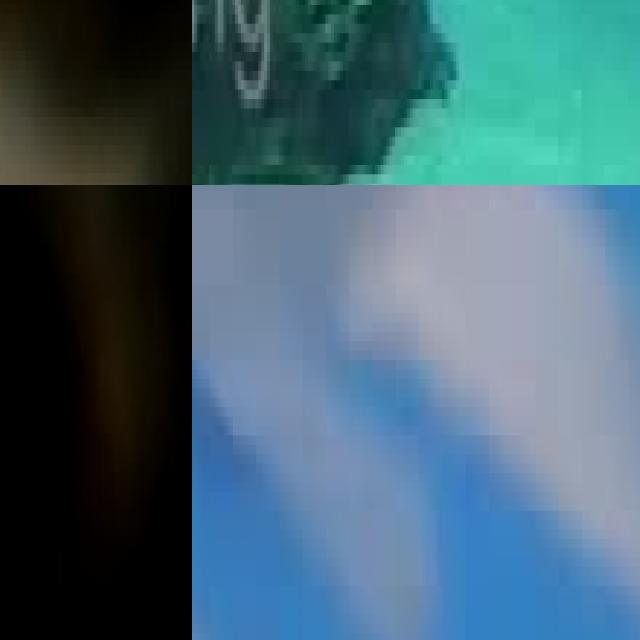fish: (192, 185, 640, 640), (0, 0, 192, 185)
